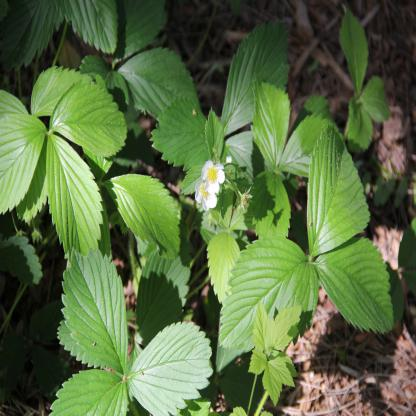strawberry leaf: (215, 234, 322, 375), (61, 245, 128, 377), (305, 127, 373, 257), (43, 128, 105, 263), (320, 227, 397, 332), (129, 320, 214, 413), (51, 73, 132, 154), (0, 112, 47, 202)
